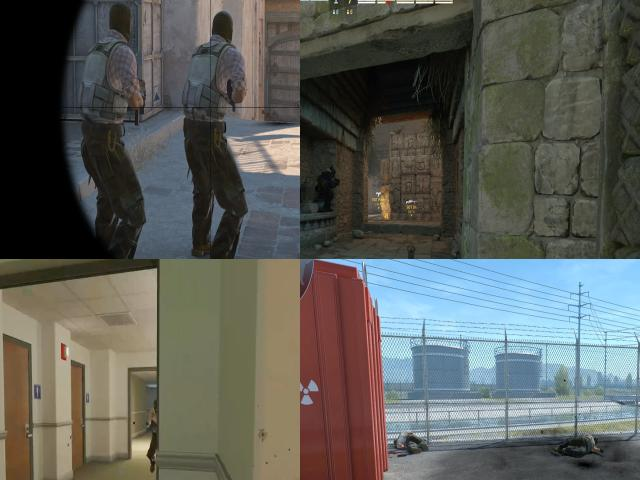CT: (318, 164, 340, 214)
CT-Head: (324, 166, 336, 179)
Dead: (552, 429, 606, 459), (390, 427, 431, 458)
T: (85, 1, 146, 259), (188, 13, 243, 250), (143, 396, 159, 456)
T-Head: (108, 1, 133, 40), (211, 11, 235, 40), (146, 397, 160, 414)
